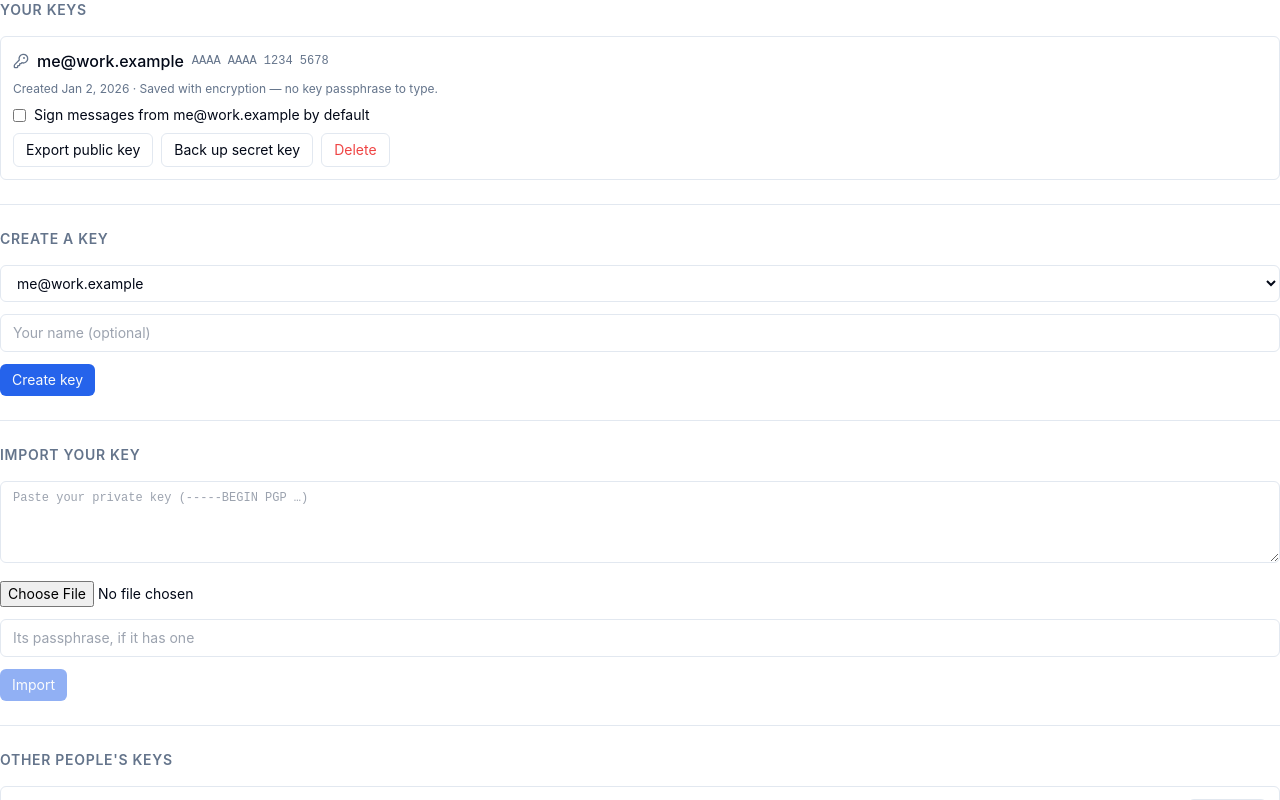
Test: EncryptionTab › deletes an own key only after confirming
The width and height of the screenshot is (1280, 800).
Click the button "Delete": point(355, 150) [321,133,390,167]
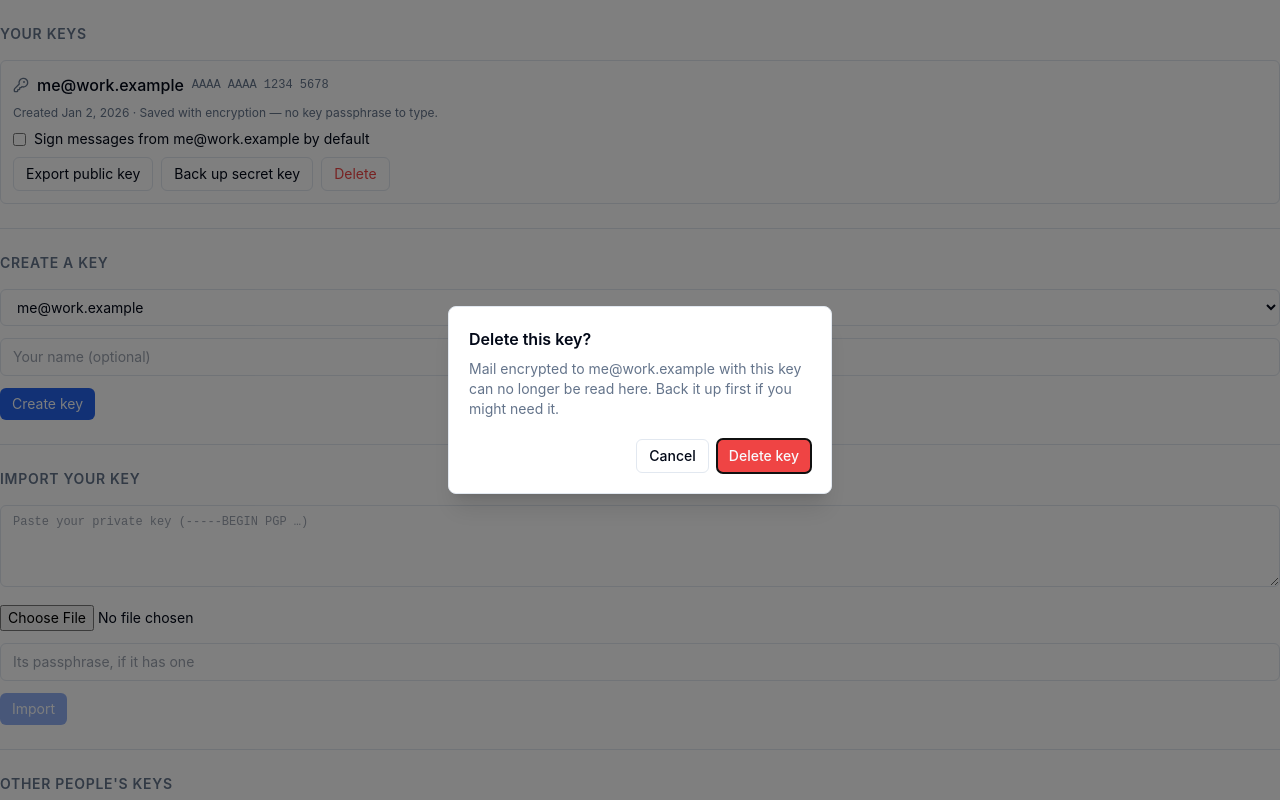
Check: the text "Back it up first" is shown, box [469,360,801,417]
Click the button "Cancel": point(673, 456) [636,439,709,473]
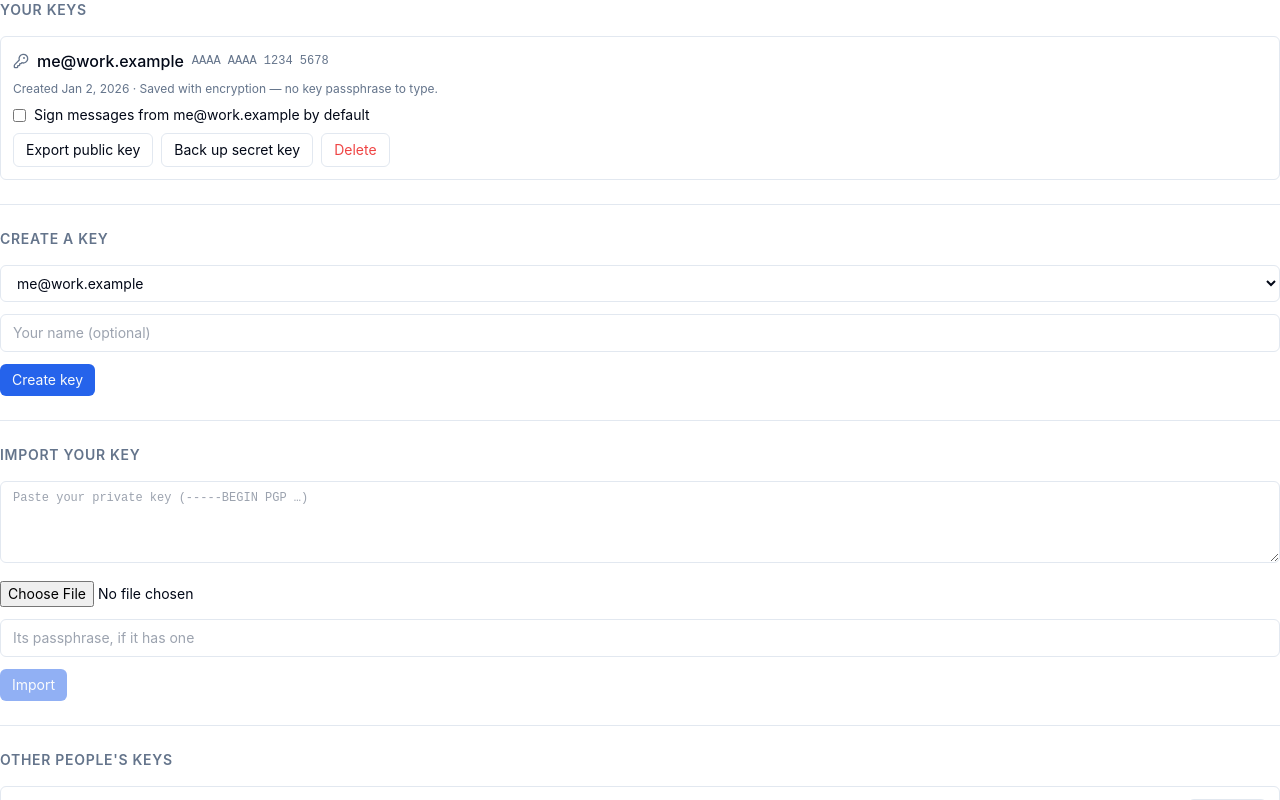
Click the button "Delete": point(355, 150) [321,133,390,167]
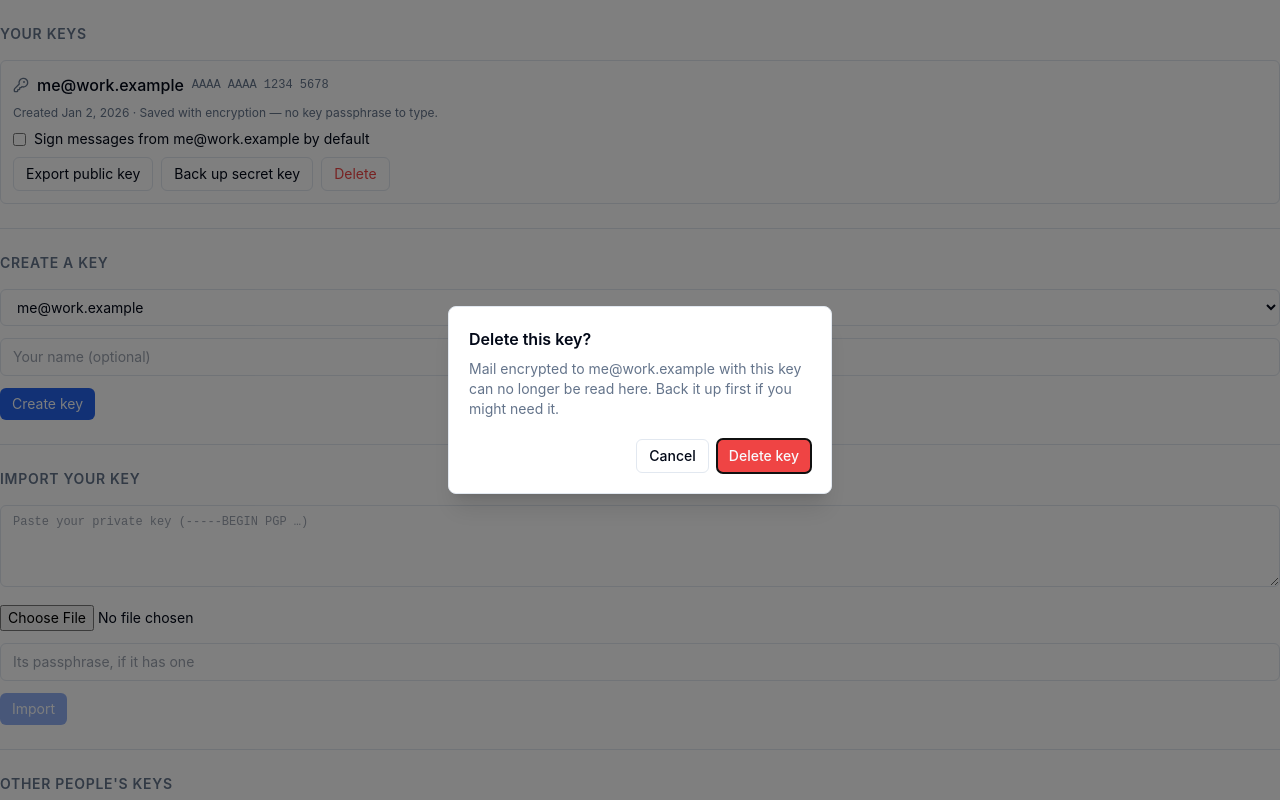
Click the button "Delete key": point(764, 456) [717,439,811,473]
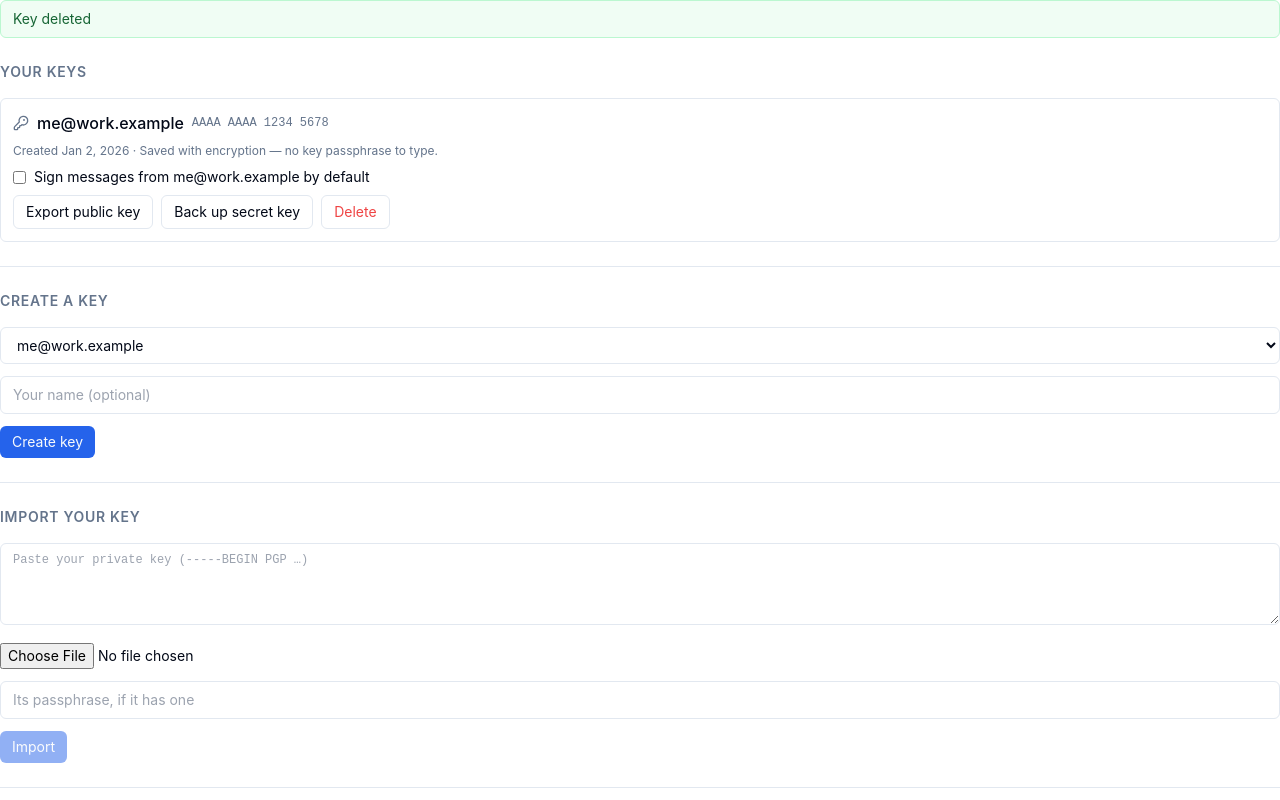
Check: the message "Key deleted" is shown, box [0,0,1279,38]
